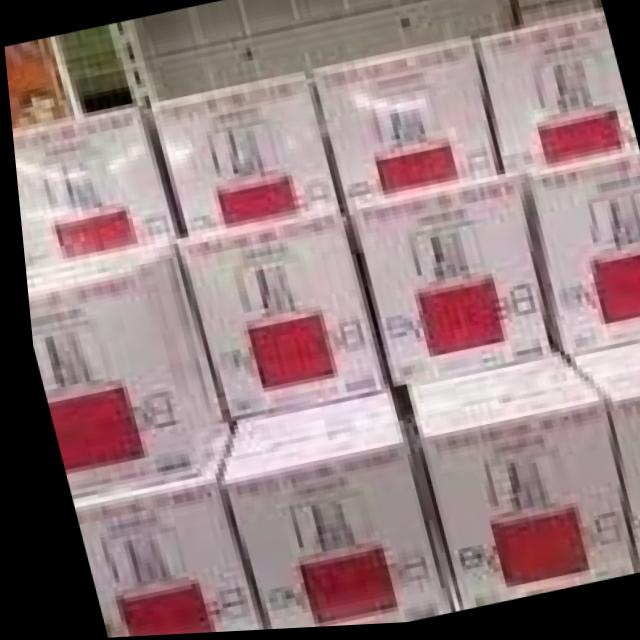box: (399, 358, 626, 615), (208, 397, 443, 632), (20, 245, 218, 504), (173, 211, 378, 420), (344, 180, 544, 392), (64, 423, 249, 638), (312, 45, 497, 211), (149, 78, 339, 238), (10, 111, 180, 271), (475, 18, 636, 179), (514, 156, 640, 360), (557, 347, 640, 579)
